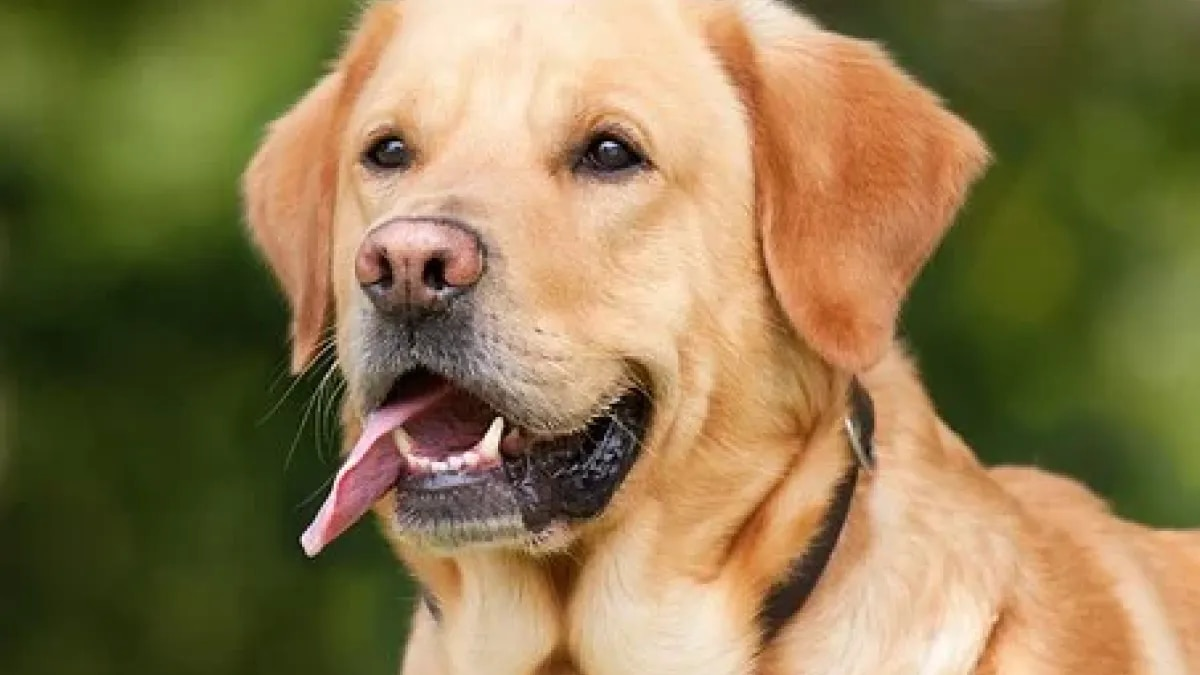dog: (324, 99, 820, 494)
